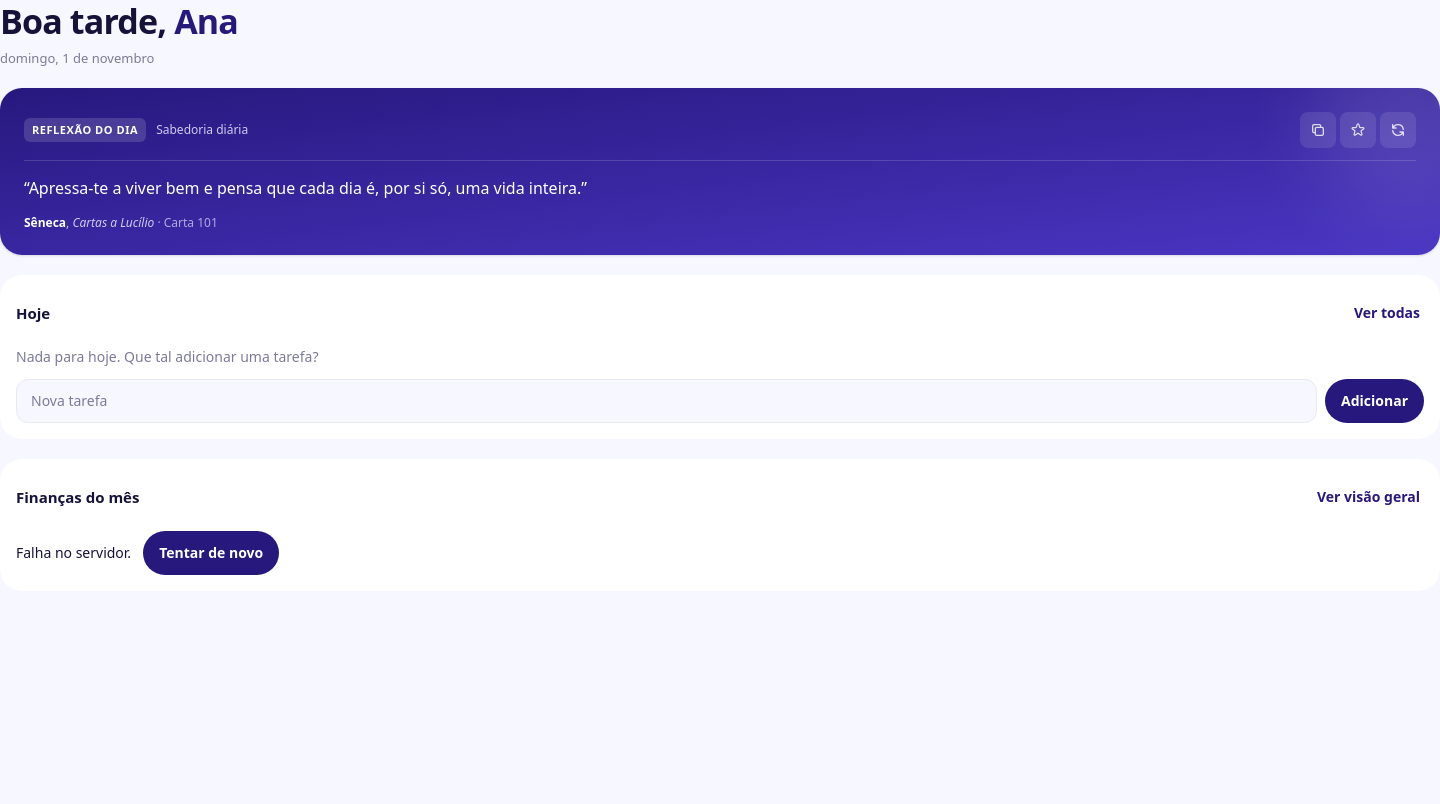
Test: PainelPage › o resumo falhando mostra erro com Tentar de novo e mantém a saudação
The image size is (1440, 804).
Expected: the text "Falha no servidor." is shown, [16,543,131,563]
Click the button "Tentar de novo" at coordinates (211, 553), box [143,531,279,575]
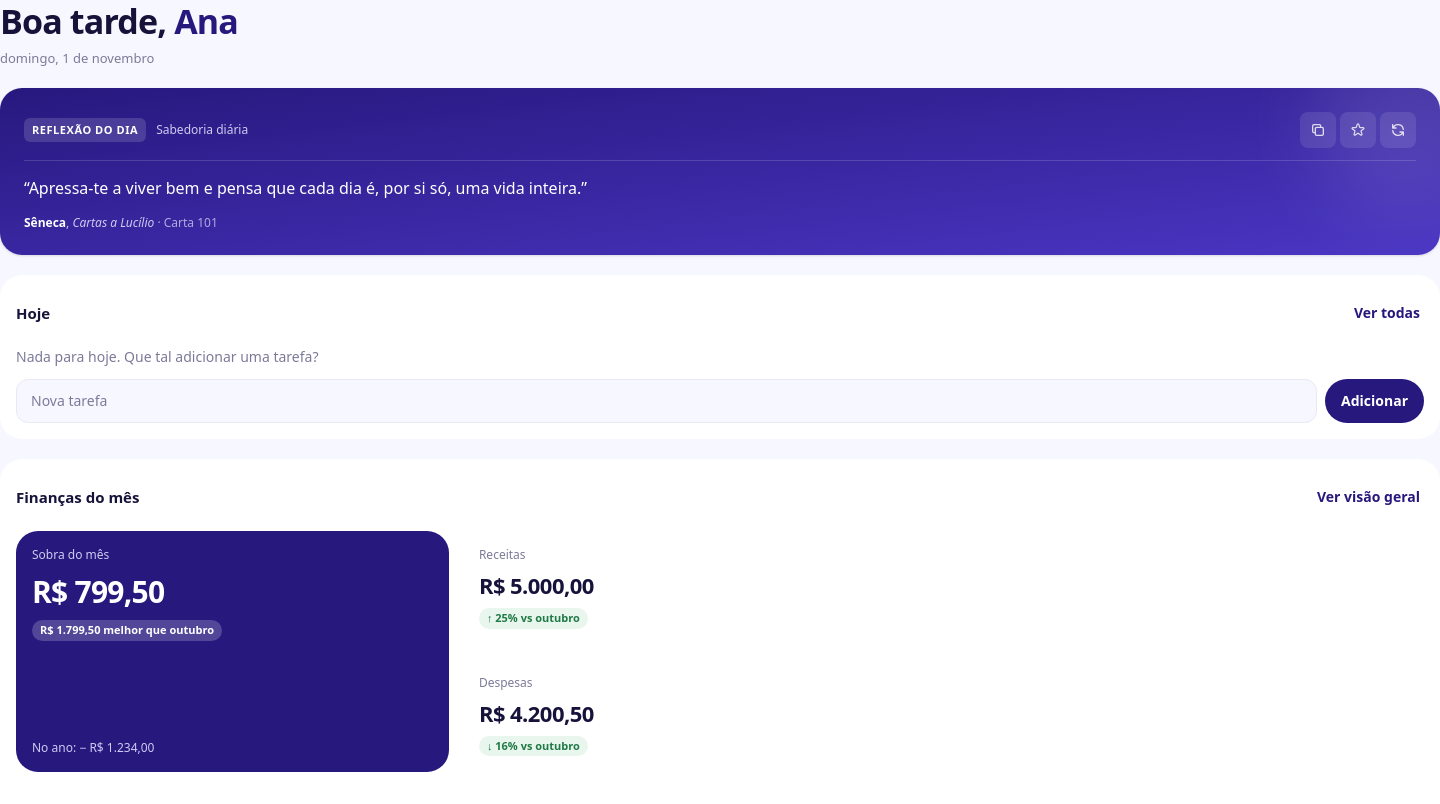
Expected: the element "Sobra do mês" is shown, [16,531,449,772]
Expected: the message "Falha no servidor. Tentar de novo" is gone
